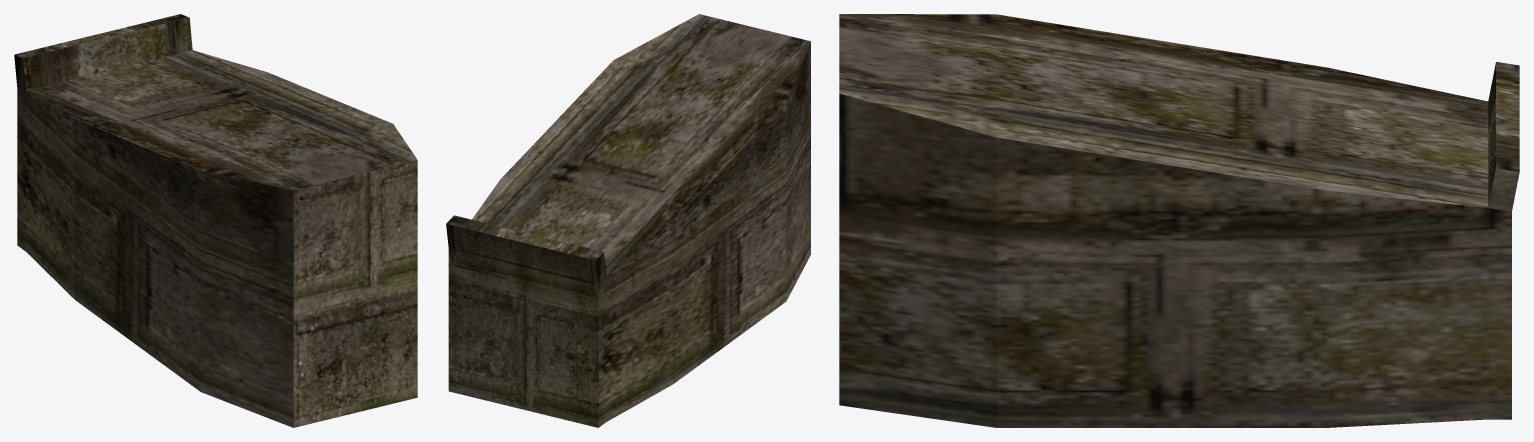
File: coffin_stand.fbx
The picture shows the model from 3 angles, left to right: view 1: azimuth 30°, elevation 25°; view 2: azimuth 150°, elevation 25°; view 3: azimuth 270°, elevation 25°; orthographic projection. The views are drawn at different scales.
Parts seen in each view (by area): view 1: Cube.001; view 2: Cube.001; view 3: Cube.001.
Boxes of the visible parts, x1,y1,x2,y2 form: Cube.001: [14, 14, 417, 427]; Cube.001: [446, 14, 810, 427]; Cube.001: [839, 14, 1519, 427].
Bounding box in the file's own units: 83.18 × 98.16 × 194.
1 material, 1 textured.
